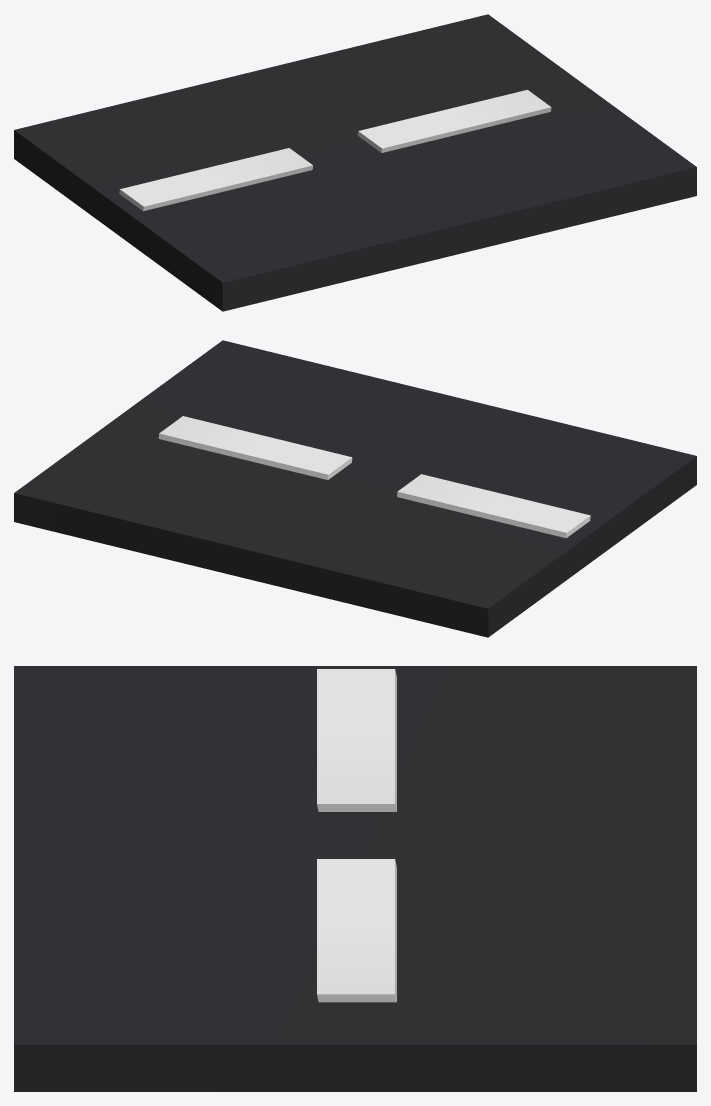
Rendered from road.fbx.
3 renders of one model, top to bottom at view 1: azimuth 30°, elevation 25°; view 2: azimuth 150°, elevation 25°; view 3: azimuth 270°, elevation 25°, orthographic. The views are drawn at different scales.
Parts seen in each view (by area): view 1: road; view 2: road; view 3: road.
Boxes of the visible parts, left/top/right/bottom form: road: left=14, top=14, right=696, bottom=311; road: left=14, top=340, right=696, bottom=637; road: left=14, top=666, right=696, bottom=1091.
Bounding box in the file's own units: 660 × 45.09 × 504.
